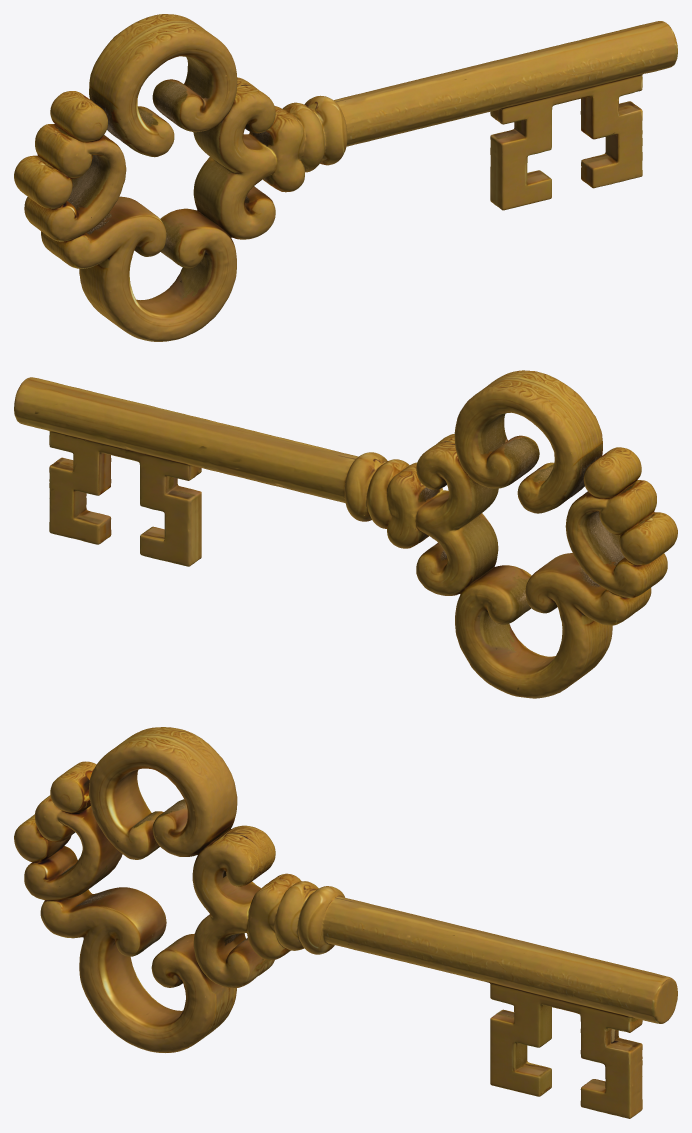
The picture shows the model from 3 angles, top to bottom: view 1: azimuth 30°, elevation 25°; view 2: azimuth 150°, elevation 25°; view 3: azimuth 330°, elevation 25°; orthographic projection.
Bounding box in the file's own units: 1.9 × 0.8693 × 0.1849.
Materials: 1 (1 with a texture image).
